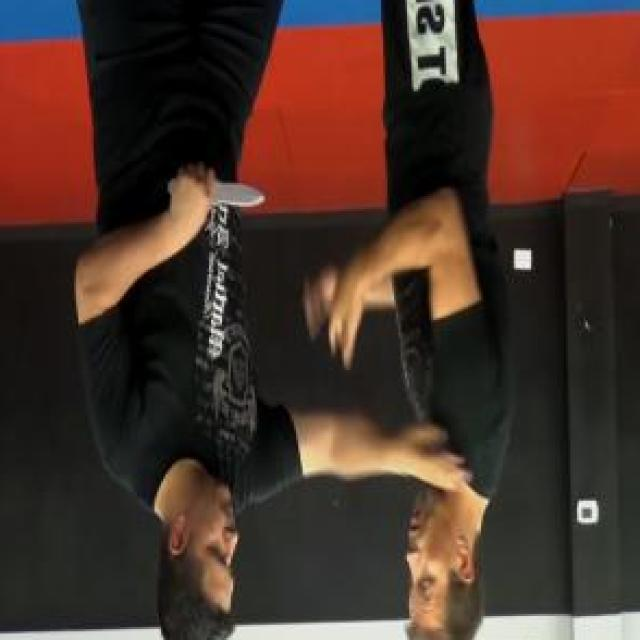knife: (163, 161, 267, 218)
